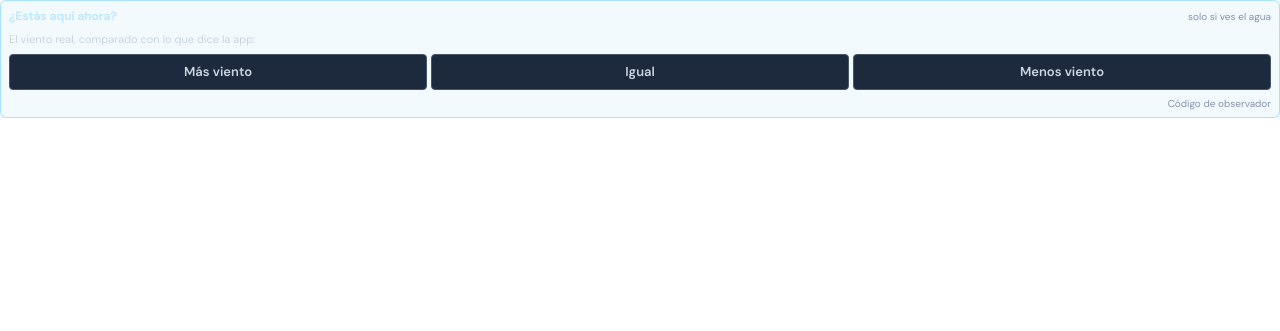
Scenario: SpotReportBox › says so when the server does not take it, without blocking a retry
Expected: the text "El viento real, comparado con lo que dice la app:" is shown, [9,32,255,46]
Click the button "Igual" at {"x": 640, "y": 72}, box [431,54,849,90]
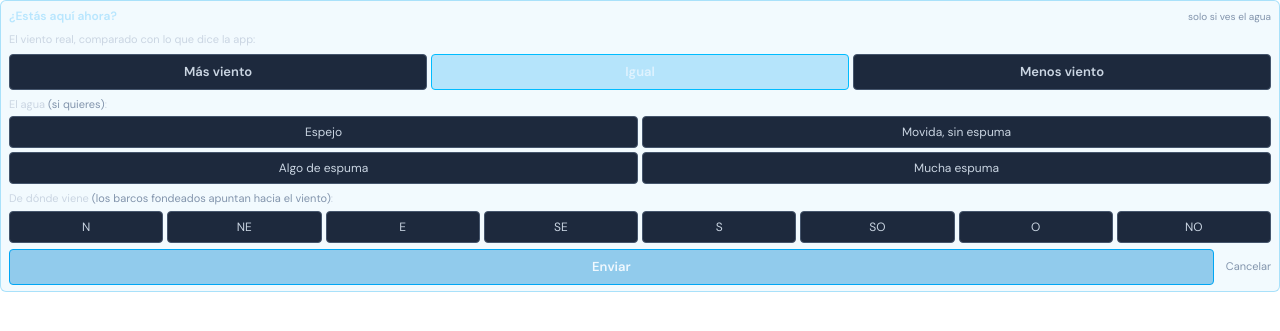
Click the button "Enviar" at {"x": 611, "y": 266}, box [9,248,1214,284]
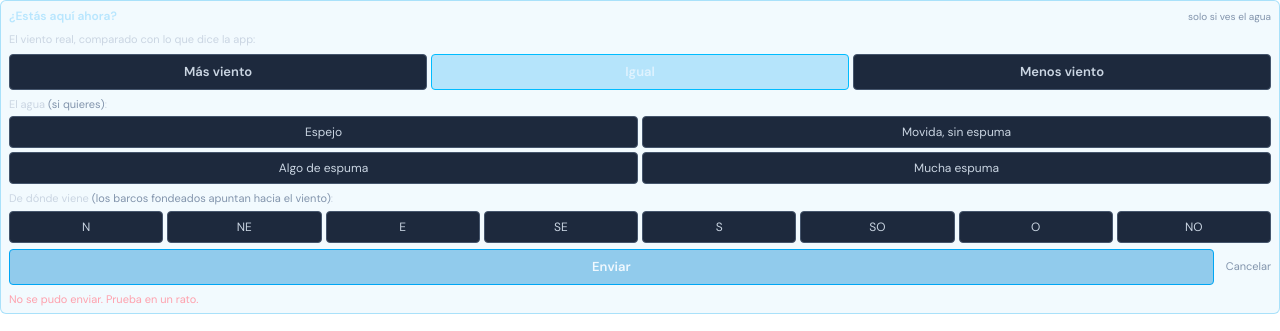
Expected: the button "Enviar" is enabled, [9,248,1214,284]
Expected: the text "No se pudo enviar. Prueba en un rato." is shown, [9,292,198,306]
